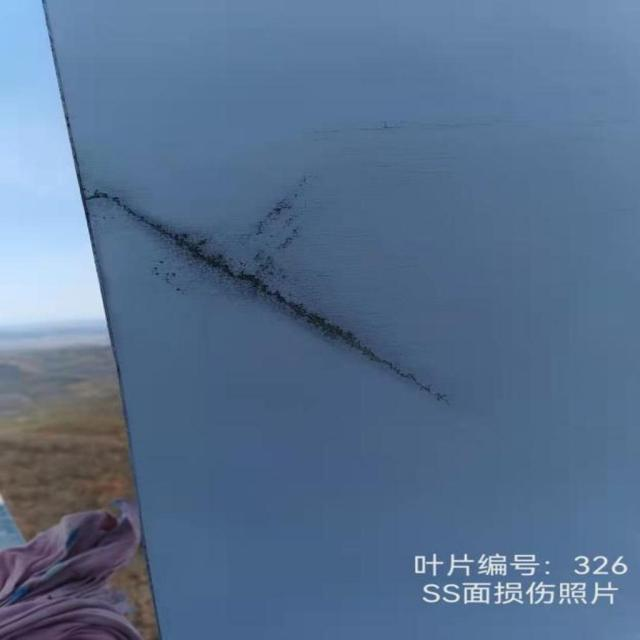crack: (82, 190, 442, 400)
